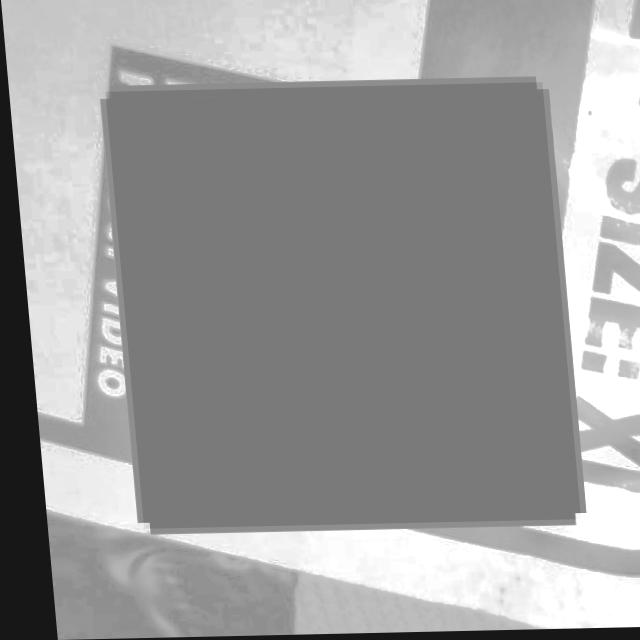qr_code: (103, 85, 570, 529)
